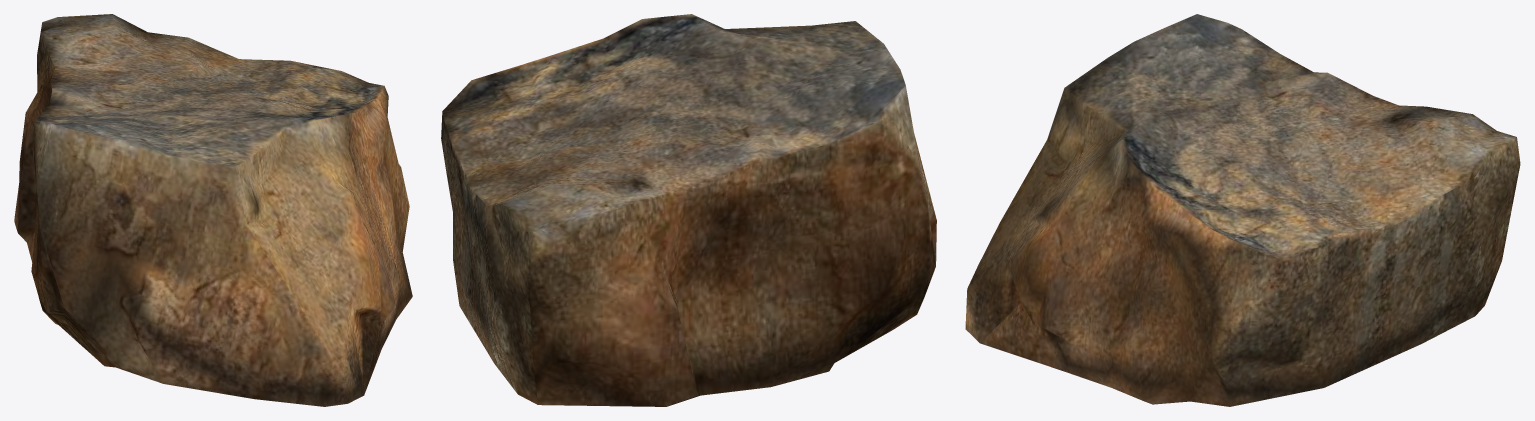
File: namaqualand_boulder_03_lod2.glb
3 renders of one model, left to right at view 1: azimuth 30°, elevation 25°; view 2: azimuth 150°, elevation 25°; view 3: azimuth 270°, elevation 25°, orthographic. The views are drawn at different scales.
Parts seen in each view (by area): view 1: boulder_03_LOD0; view 2: boulder_03_LOD0; view 3: boulder_03_LOD0.
Part boxes in pixels (x1=…): boulder_03_LOD0: x1=14, y1=14, x2=412, y2=406; boulder_03_LOD0: x1=441, y1=14, x2=936, y2=406; boulder_03_LOD0: x1=965, y1=14, x2=1520, y2=406.
Bounding box in the file's own units: 2.39 × 1.46 × 3.04.
Materials: 1 (1 with a texture image).
